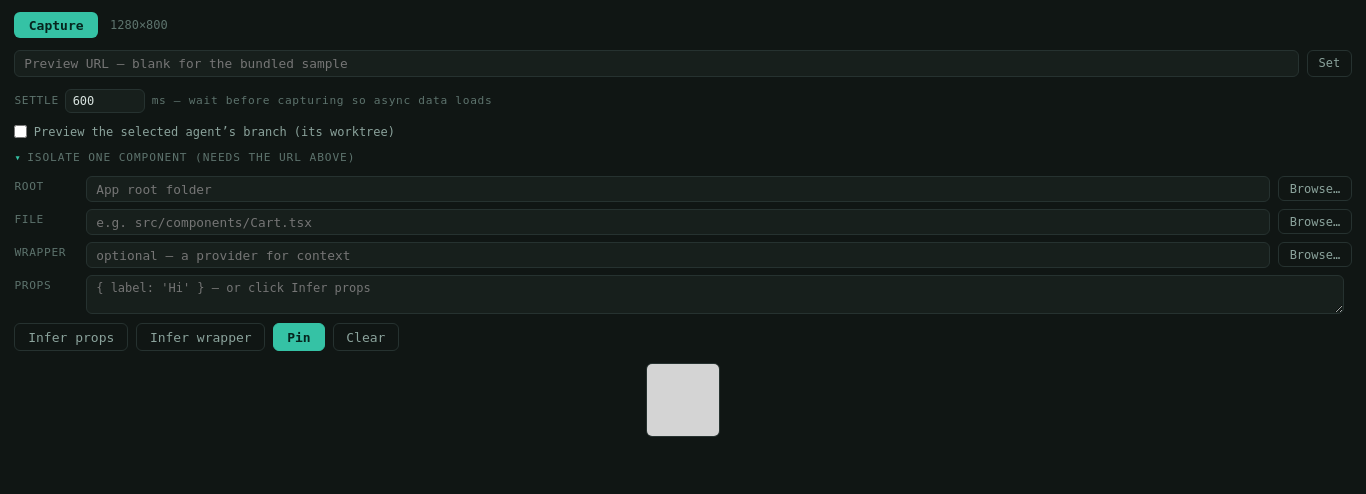
it: Preview › cancels a mark without sending
Click the button named "Point at the app".
click(683, 400)  # box [14,363,1352,437]
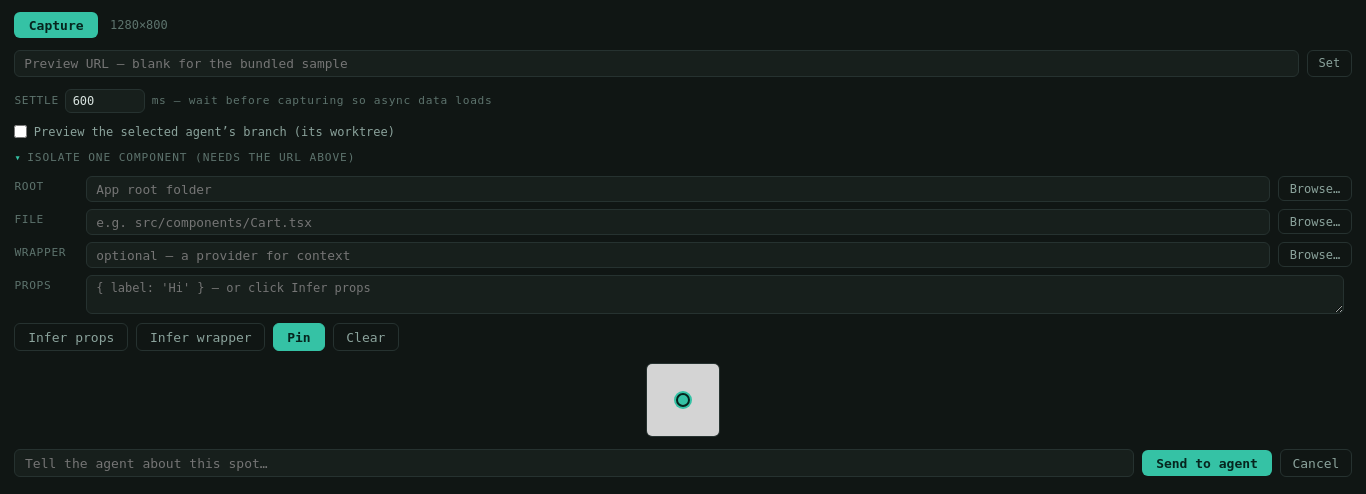
Click the button "Cancel".
click(1316, 463)  # box [1280,449,1352,478]
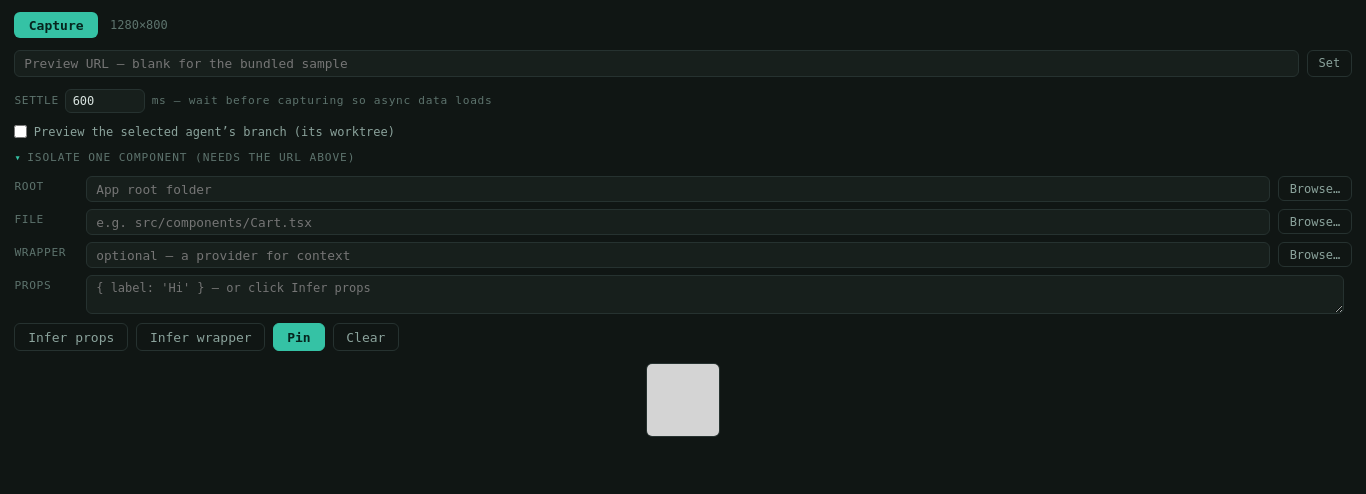
Check: the button "Send to agent" is gone
